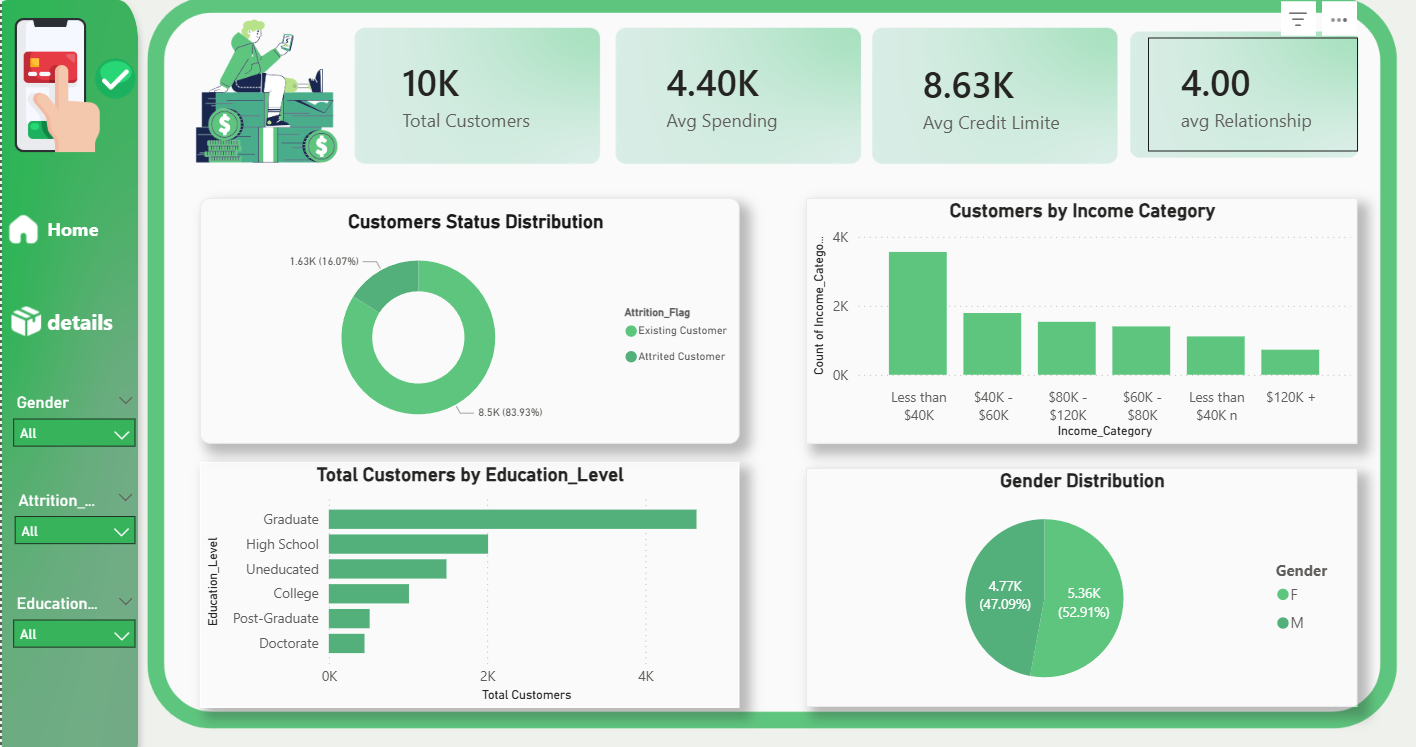

Layout of this report page (visuals, bound fields, positions):
{"tool":"powerbi","page":{"name":"overview","canvas":[1280,720],"ordinal":1},"visuals":[{"type":"image","box":[0,0,128.3,689.8],"z":0},{"type":"actionButton","box":[0,175.2,129.8,54.7],"z":1000},{"type":"actionButton","box":[0,255,129.8,59.4],"z":2000},{"type":"image","box":[311.3,20.3,217.4,129.8],"z":3000},{"type":"image","box":[542.8,20.3,217.4,129.8],"z":4000},{"type":"image","box":[769.6,20.3,217.4,129.8],"z":5000},{"type":"image","box":[997.9,20.3,201.8,128.3],"z":6000},{"type":"cardVisual","fields":{"Data":["BankChurners_cleaned.Total Customers"]},"box":[325.3,32.8,186.1,101.7],"z":7000},{"type":"cardVisual","fields":{"Data":["BankChurners_cleaned.Avg Spending"]},"box":[558.4,32.8,186.1,101.7],"z":8000},{"type":"cardVisual","fields":{"Data":["BankChurners_cleaned.Avg Credit Limite"]},"box":[785.2,34.4,186.1,101.7],"z":9000},{"type":"cardVisual","fields":{"Data":["BankChurners_cleaned.avg Relationship"]},"box":[1013.6,32.8,186.1,101.7],"z":10000},{"type":"donutChart","title":"Customers Status Distribution","fields":{"Category":["BankChurners_cleaned.Attrition_Flag"],"Y":["CountNonNull(BankChurners_cleaned.Attrition_Flag)"]},"box":[175.2,175.2,477.1,217.4],"z":11000},{"type":"columnChart","title":"Customers by Income Category","fields":{"Category":["BankChurners_cleaned.Income_Category"],"Y":["CountNonNull(BankChurners_cleaned.Income_Category)"]},"box":[711.7,175.2,488,217.4],"z":12000},{"type":"pieChart","title":"Gender Distribution","fields":{"Category":["BankChurners_cleaned.Gender"],"Y":["CountNonNull(BankChurners_cleaned.Gender)"]},"box":[711.7,414.5,488,211.2],"z":13000},{"type":"clusteredBarChart","fields":{"Category":["BankChurners_cleaned.Education_Level"],"Y":["BankChurners_cleaned.Total Customers"]},"box":[175.2,408.2,477.1,217.4],"z":14000},{"type":"slicer","fields":{"Values":["BankChurners_cleaned.Gender"]},"box":[0,342.5,128.3,65.7],"z":15000},{"type":"slicer","fields":{"Values":["BankChurners_cleaned.Attrition_Flag"]},"box":[1.6,428.6,126.7,76.6],"z":16000},{"type":"slicer","fields":{"Values":["BankChurners_cleaned.Education_Level"]},"box":[0,520.9,128.3,90.7],"z":17000},{"type":"image","box":[1.6,0,126.7,150.2],"z":17001}]}

Visuals, with their boxes on the page's 1280x720 design canvas (x1, y1, x2, y2). These are canvas units, not pixel positions in the 1416x747 screenshot, which may show the page scaled, cropped or inside an application window:
image: <box>0,0,128,690</box>
actionButton: <box>0,175,130,230</box>
actionButton: <box>0,255,130,314</box>
image: <box>311,20,529,150</box>
image: <box>543,20,760,150</box>
image: <box>770,20,987,150</box>
image: <box>998,20,1200,149</box>
cardVisual - BankChurners_cleaned.Total Customers: <box>325,33,511,134</box>
cardVisual - BankChurners_cleaned.Avg Spending: <box>558,33,744,134</box>
cardVisual - BankChurners_cleaned.Avg Credit Limite: <box>785,34,971,136</box>
cardVisual - BankChurners_cleaned.avg Relationship: <box>1014,33,1200,134</box>
"Customers Status Distribution" donutChart: <box>175,175,652,393</box>
"Customers by Income Category" columnChart: <box>712,175,1200,393</box>
"Gender Distribution" pieChart: <box>712,414,1200,626</box>
clusteredBarChart - BankChurners_cleaned.Education_Level x BankChurners_cleaned.Total Customers: <box>175,408,652,626</box>
slicer - BankChurners_cleaned.Gender: <box>0,342,128,408</box>
slicer - BankChurners_cleaned.Attrition_Flag: <box>2,429,128,505</box>
slicer - BankChurners_cleaned.Education_Level: <box>0,521,128,612</box>
image: <box>2,0,128,150</box>
